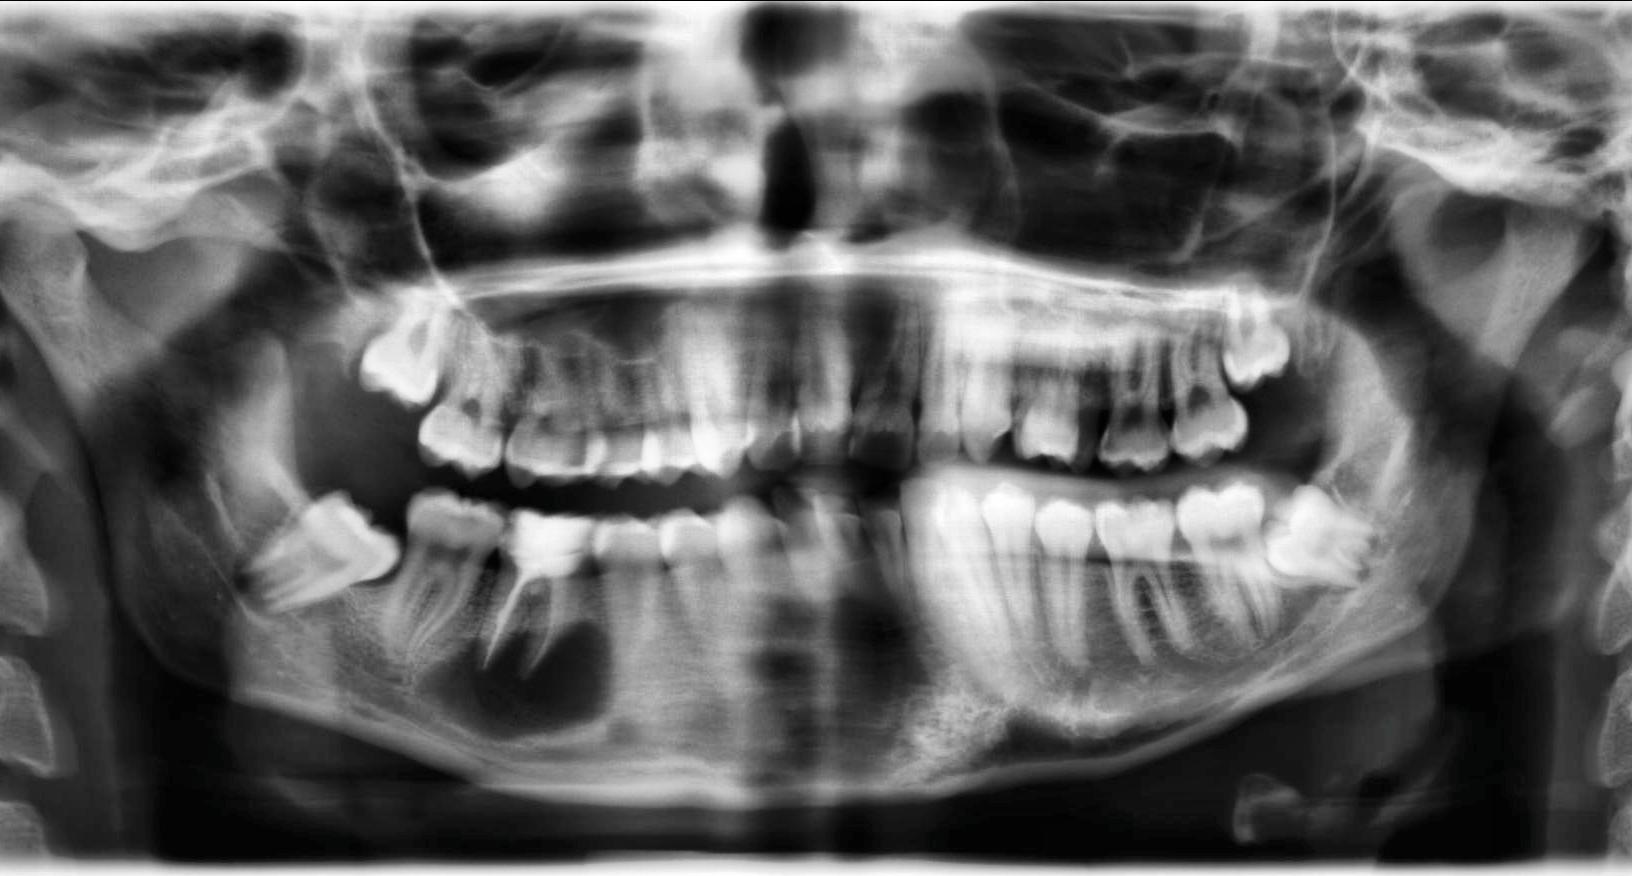radikuler: (412, 617, 615, 746)
